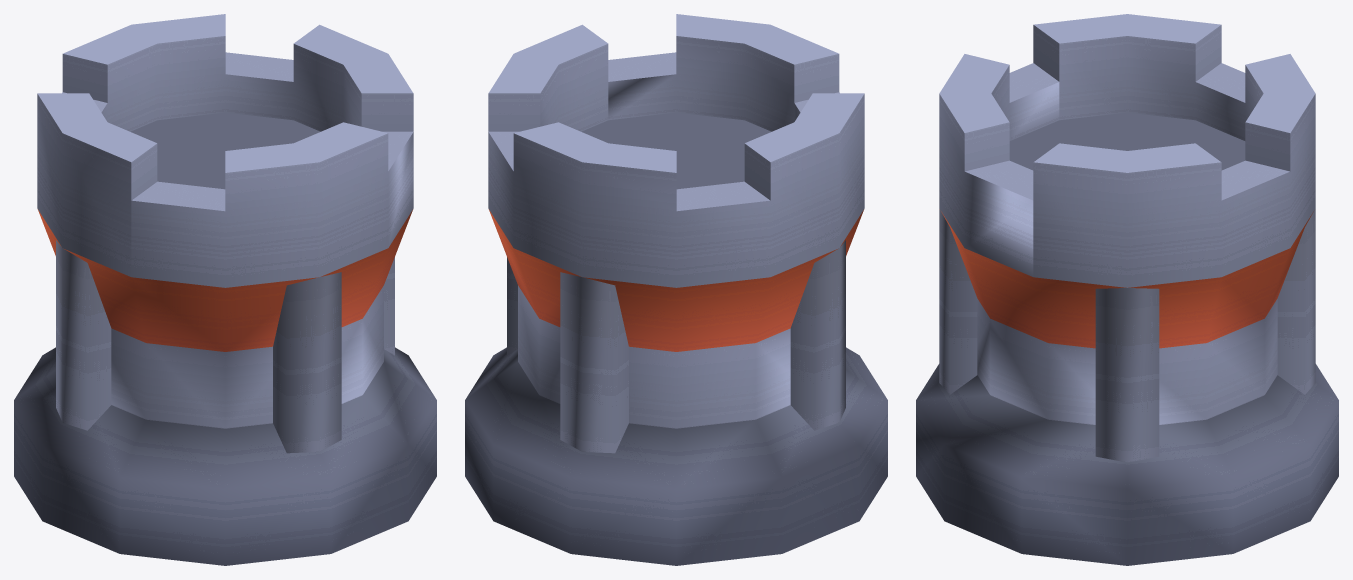
File: tower-round-build-a.glb
The picture shows the model from 3 angles, left to right: view 1: azimuth 30°, elevation 25°; view 2: azimuth 150°, elevation 25°; view 3: azimuth 270°, elevation 25°; orthographic projection.
Visible parts, largest first — view 1: tower-round-build-a; view 2: tower-round-build-a; view 3: tower-round-build-a.
Part boxes in pixels (<box>): tower-round-build-a: <box>14,14,436,565</box>; tower-round-build-a: <box>465,14,887,565</box>; tower-round-build-a: <box>916,14,1338,565</box>.
Bounding box in the file's own units: 1 × 1 × 1.
1 material, 1 textured.
